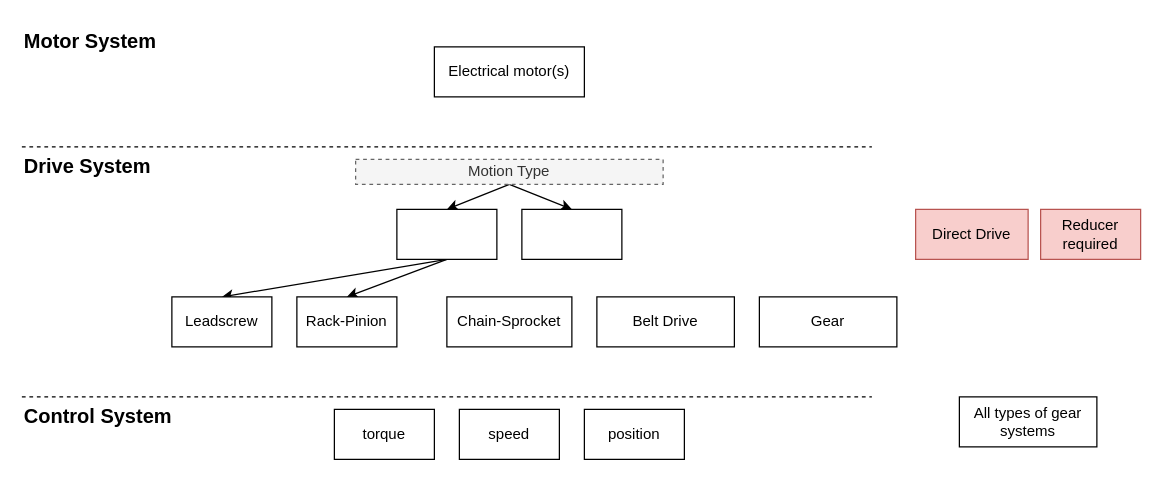
Image size: 1163x481. Some labels were removed from this diagram. The centre of each missing label's shape, as x and y in pixels:
"Linear" belongs at (446,233).
"Rotary" belongs at (571,233).
